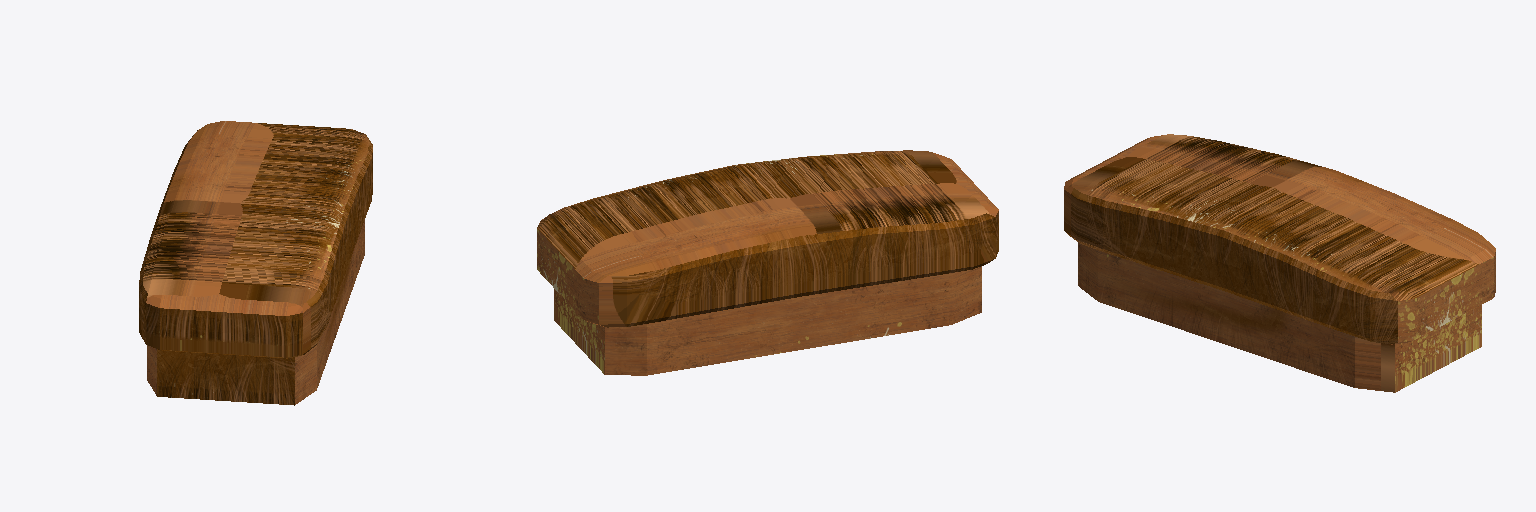
3 renders of one model, left to right at view 1: azimuth 30°, elevation 25°; view 2: azimuth 150°, elevation 25°; view 3: azimuth 270°, elevation 25°, orthographic.
Parts seen in each view (by area): view 1: Cube.048_Cube.044; view 2: Cube.048_Cube.044; view 3: Cube.048_Cube.044.
Part boxes in pixels (x1,y1,x2,y2): Cube.048_Cube.044: (139, 121, 372, 405); Cube.048_Cube.044: (537, 150, 998, 375); Cube.048_Cube.044: (1064, 134, 1495, 392).
Size of the model in its own units: 0.155 by 0.0531 by 0.172.
1 materials, 1 textured.